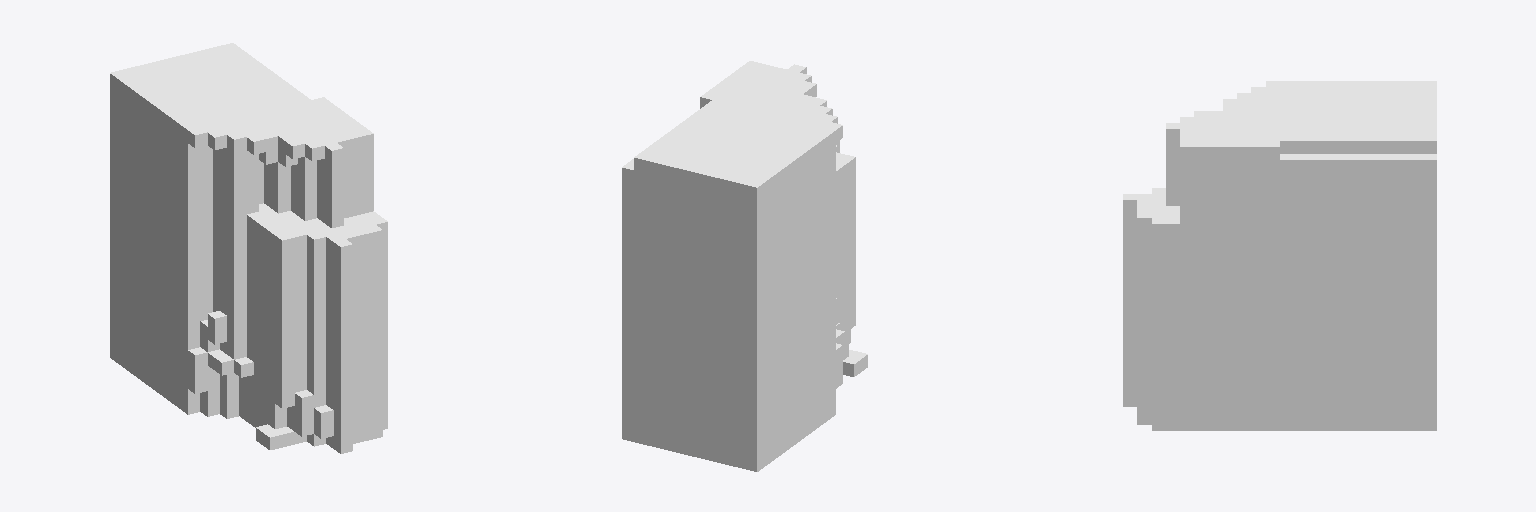
File: beach2.obj
3 renders of one model, left to right at view 1: azimuth 30°, elevation 25°; view 2: azimuth 150°, elevation 25°; view 3: azimuth 270°, elevation 25°, orthographic.
Parts seen in each view (by area): view 1: object 1; view 2: object 1; view 3: object 1.
Boxes of the visible parts, x1=… form: object 1: x1=110, y1=43, x2=387, y2=453; object 1: x1=622, y1=61, x2=867, y2=471; object 1: x1=1123, y1=81, x2=1436, y2=430.
Bounding box in the file's own units: 1.1 × 2.2 × 2.2.